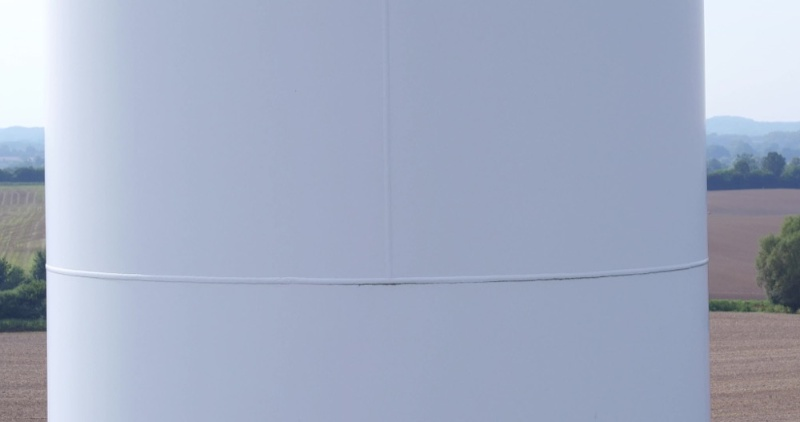weldseam: (41, 253, 712, 294), (377, 1, 398, 289)
